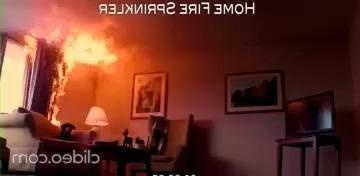fire: (53, 21, 126, 77)
